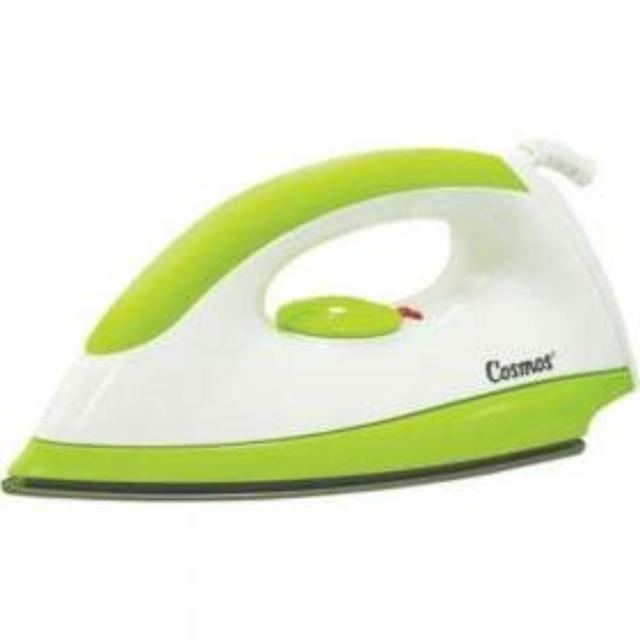Clothes-Iron: (93, 77, 599, 485), (127, 130, 579, 496)
